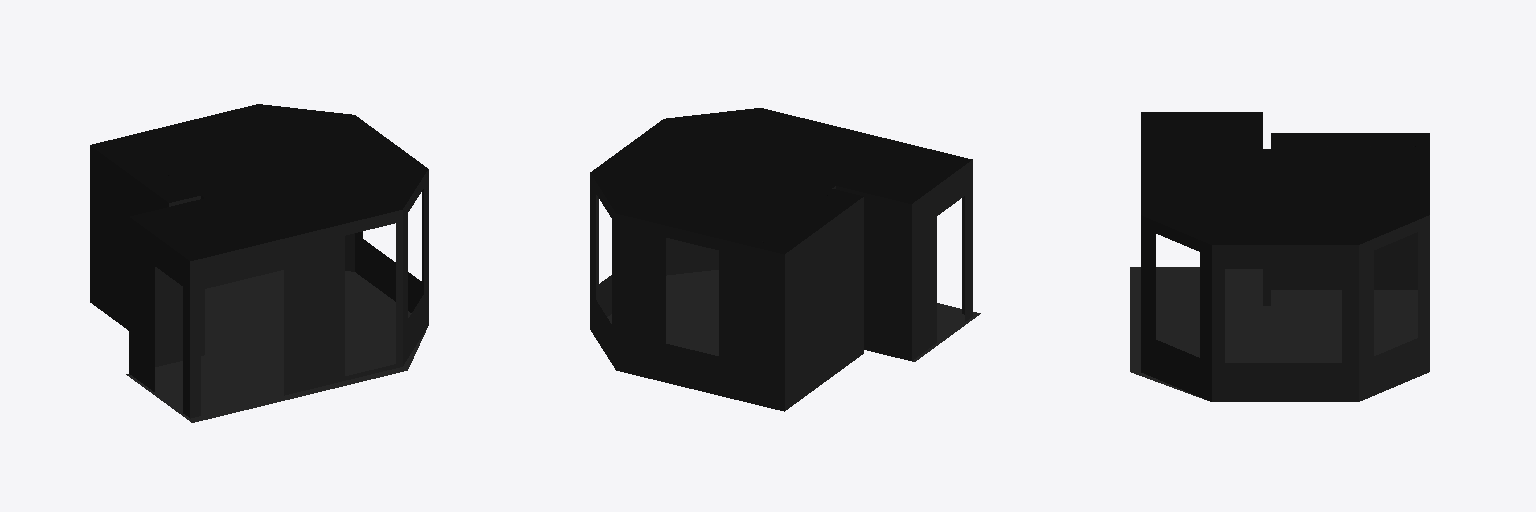
File: Kitchen.obj
3 renders of one model, left to right at view 1: azimuth 30°, elevation 25°; view 2: azimuth 150°, elevation 25°; view 3: azimuth 270°, elevation 25°, orthographic.
Visible parts, largest first — view 1: Body; view 2: Body; view 3: Body.
Part boxes in pixels (left/top/right/bottom): Body: left=90, top=104, right=428, bottom=422; Body: left=590, top=108, right=980, bottom=411; Body: left=1130, top=112, right=1429, bottom=401.
Bounding box in the file's own units: 2.92 × 1.58 × 2.73.